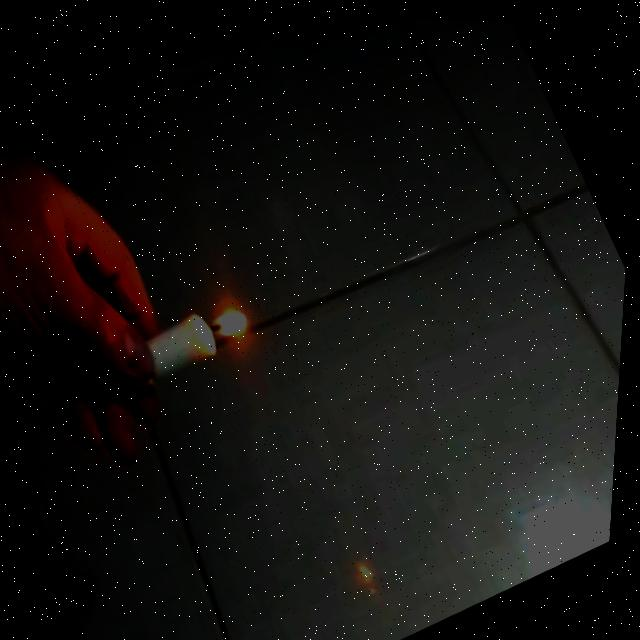Fire: (205, 292, 263, 349)
